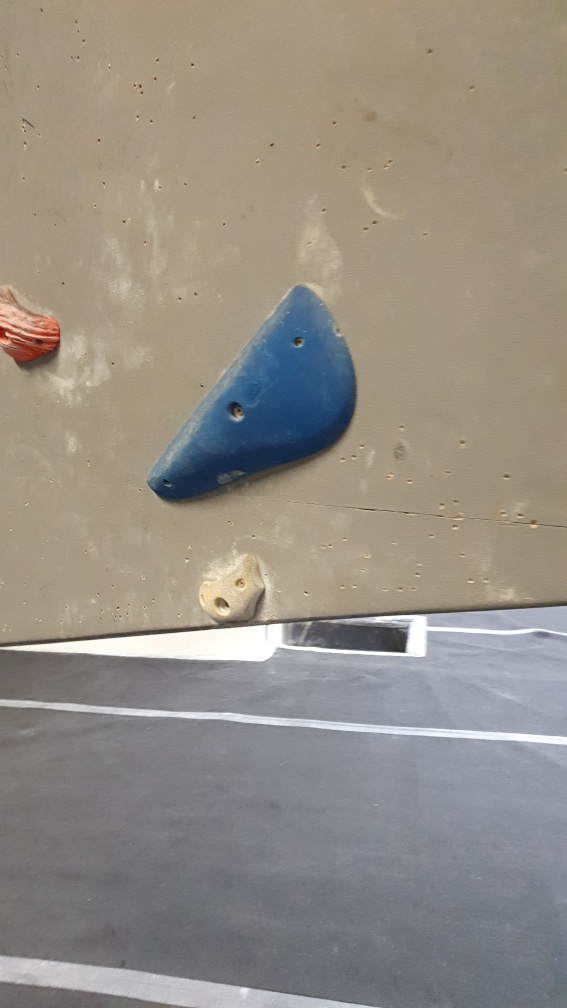Jug: (1, 278, 69, 368)
